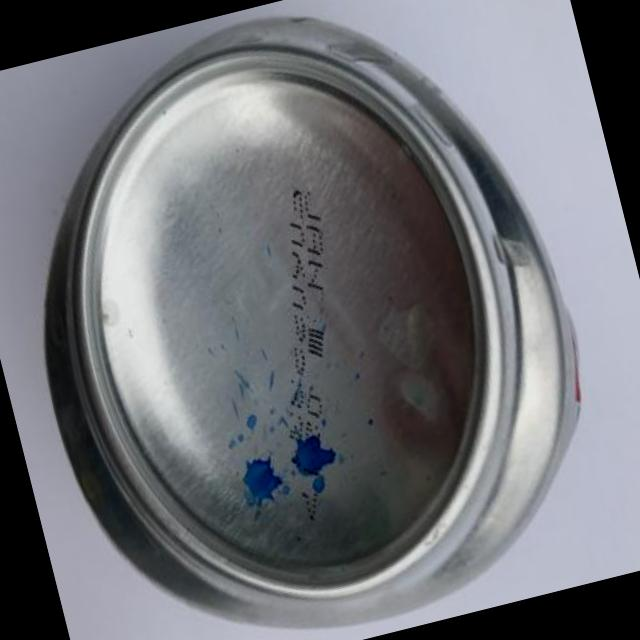kim_loai: (44, 17, 581, 629)
